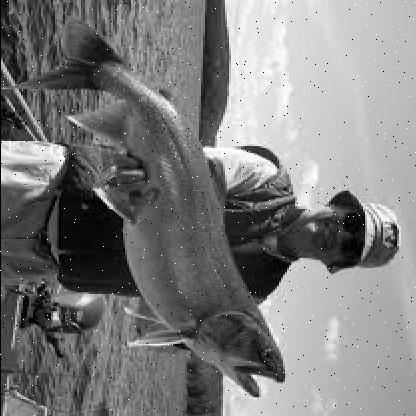fish: (21, 17, 291, 394)
